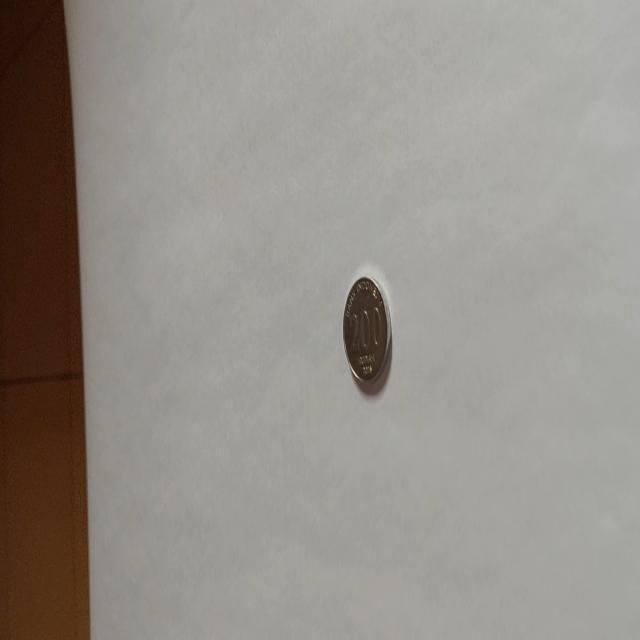dua ratus rupiah: (342, 274, 392, 386)
